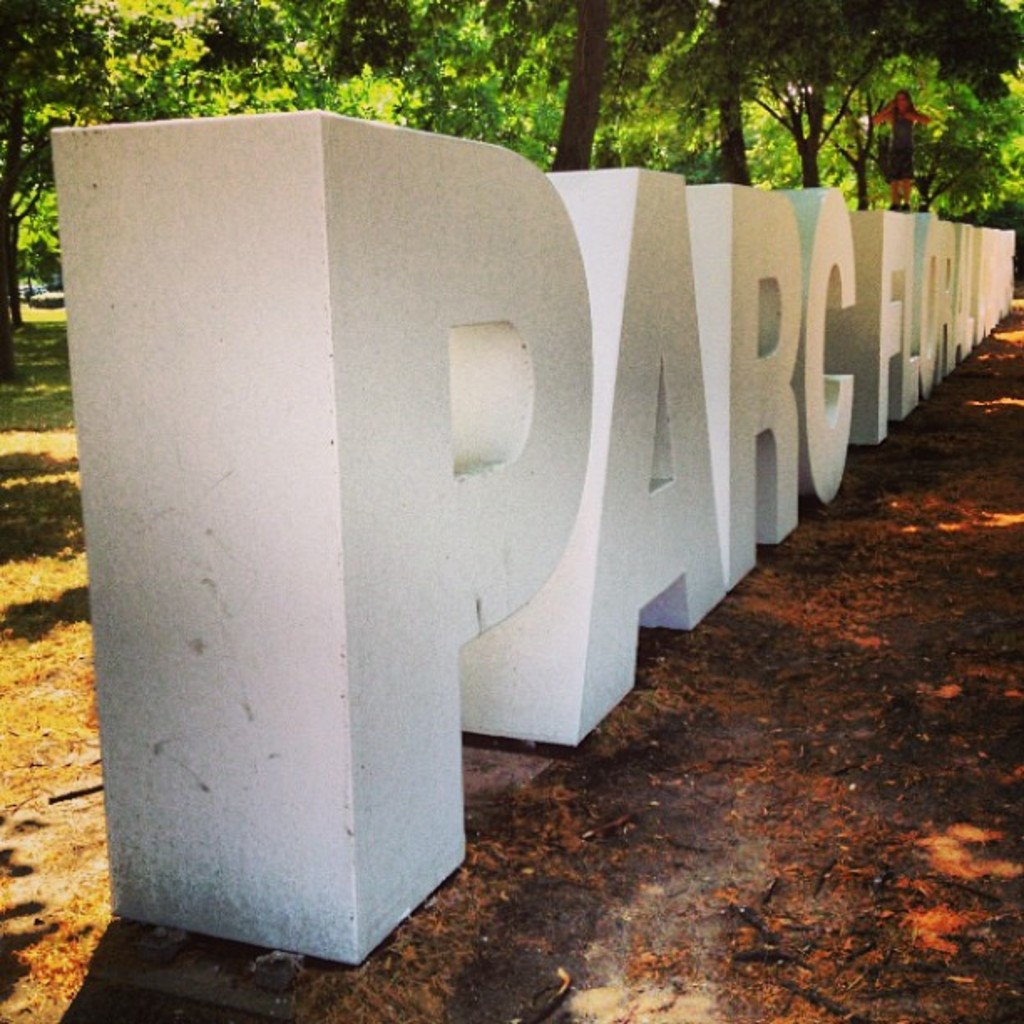Tree: (92, 0, 572, 180), (440, 0, 704, 180), (0, 0, 125, 356), (819, 0, 1022, 194), (746, 0, 920, 194), (632, 5, 818, 172), (858, 46, 1022, 214), (639, 83, 856, 182)
